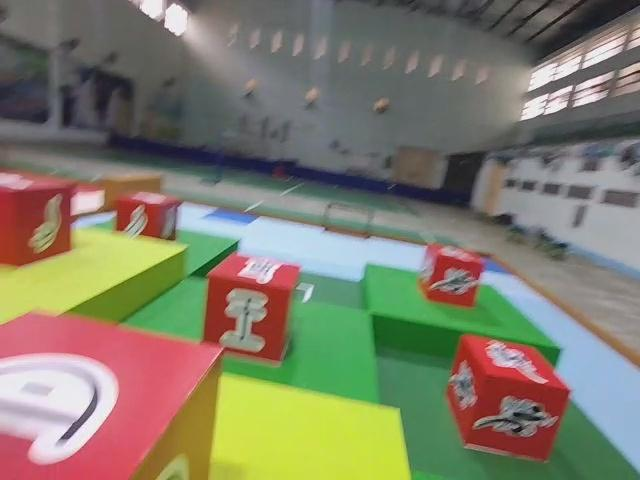R1: (447, 331, 571, 468), (418, 240, 484, 306)
R2 Fake: (202, 250, 303, 364)
R2 Real: (0, 306, 229, 480), (0, 173, 74, 265), (112, 187, 181, 246)
